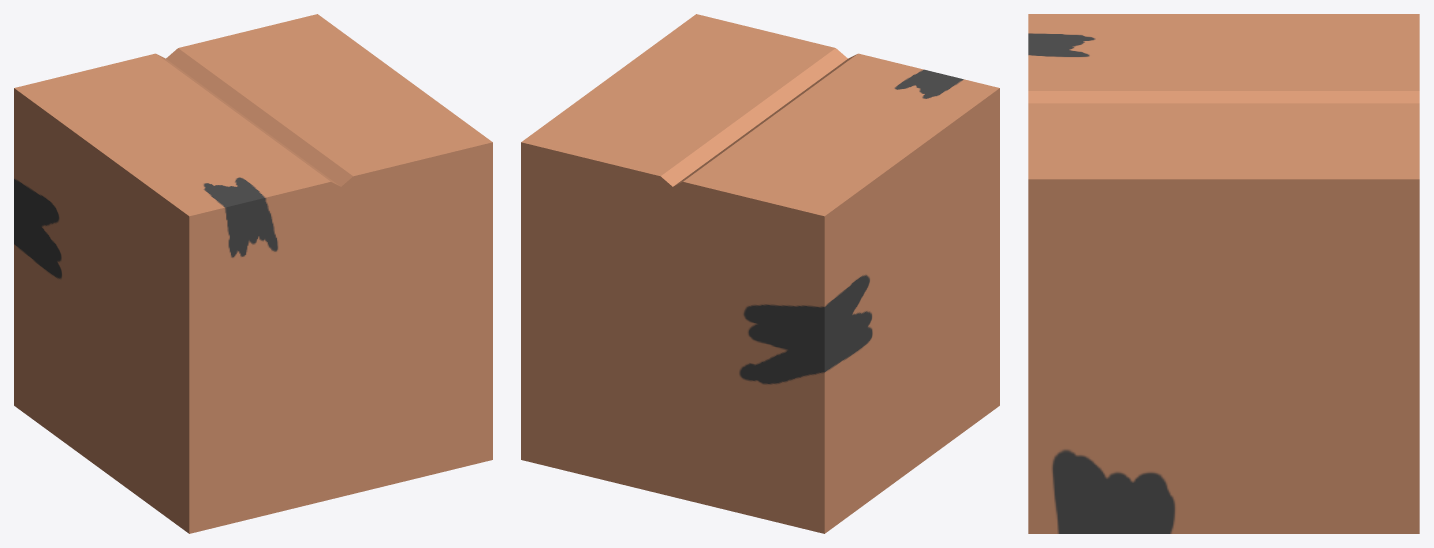
Rendered from СubeBox.fbx.
3 renders of one model, left to right at view 1: azimuth 30°, elevation 25°; view 2: azimuth 150°, elevation 25°; view 3: azimuth 270°, elevation 25°, orthographic. The views are drawn at different scales.
Visible parts, largest first — view 1: Cube; view 2: Cube; view 3: Cube.
Part boxes in pixels (x1=…): Cube: x1=14, y1=14, x2=492, y2=533; Cube: x1=521, y1=14, x2=999, y2=533; Cube: x1=1028, y1=14, x2=1419, y2=533.
Bounding box in the file's own units: 200 × 200 × 200.
